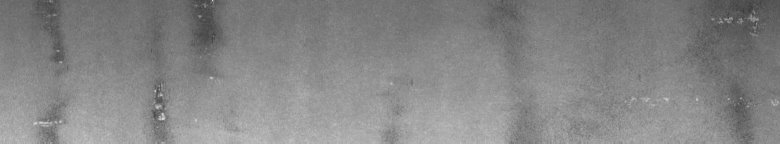hc: (144, 4, 224, 134)
